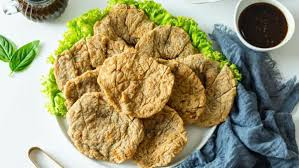Pempek kulit: (102, 46, 175, 121), (62, 90, 138, 160), (186, 47, 243, 125), (48, 33, 127, 80), (92, 5, 149, 41), (136, 25, 199, 53)
